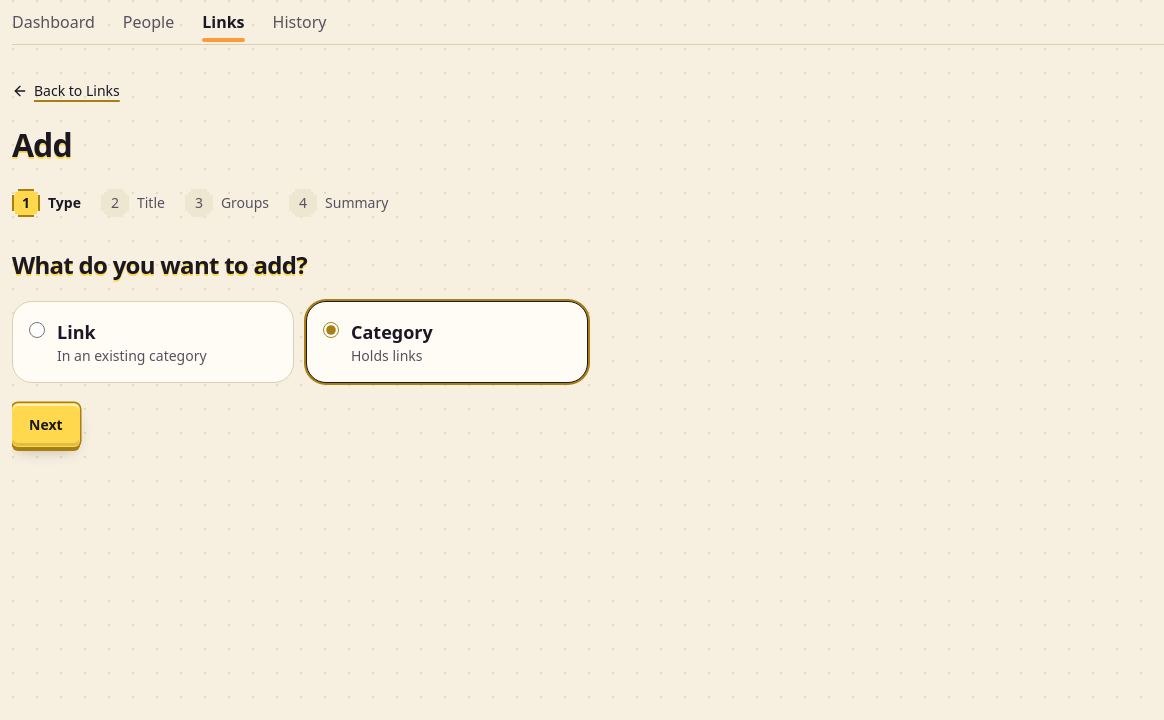
AddLinks › goes back to the step of a field the server refused
Click the button "Next" at (46, 425), box [12,403,80,447]
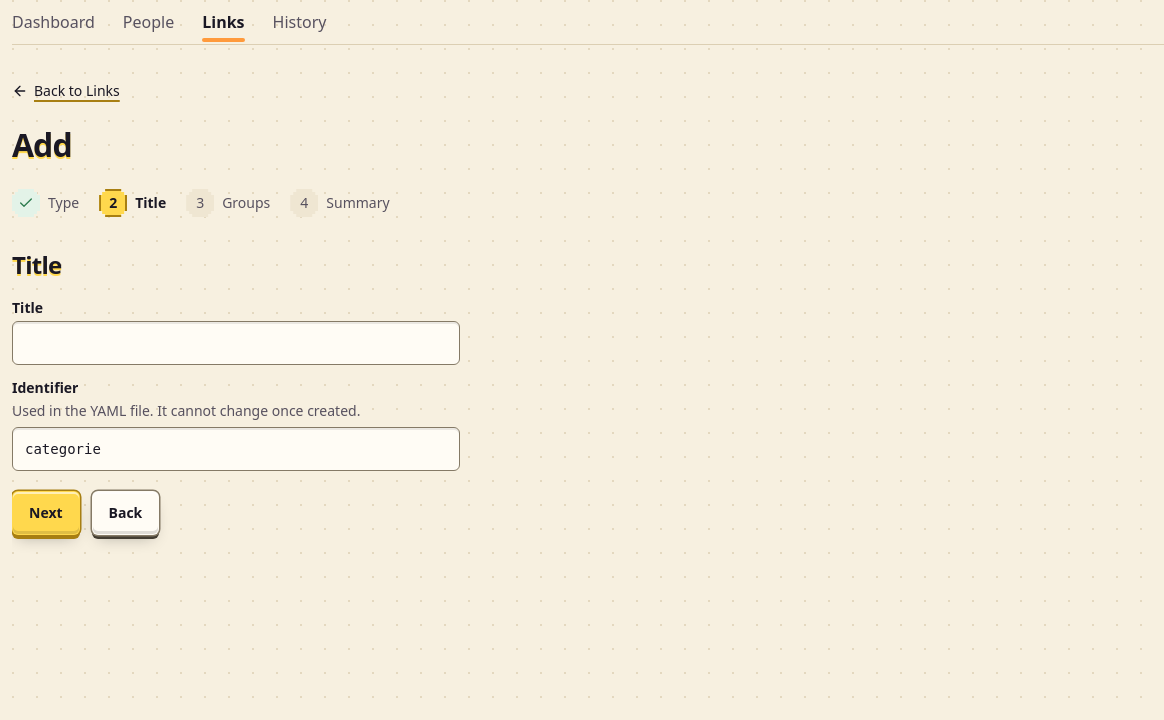
Type "Support" into the field labelled "Title" at (236, 343), box [12,321,460,365]
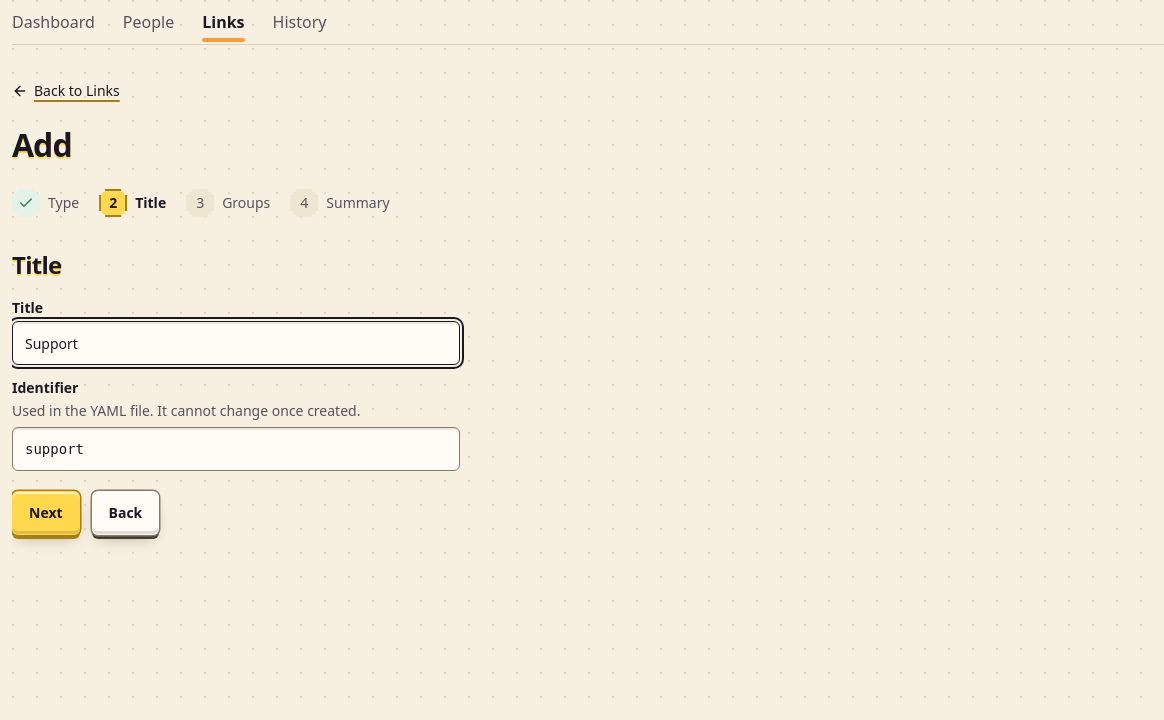
Click the button "Next" at (46, 513), box [12,491,80,535]
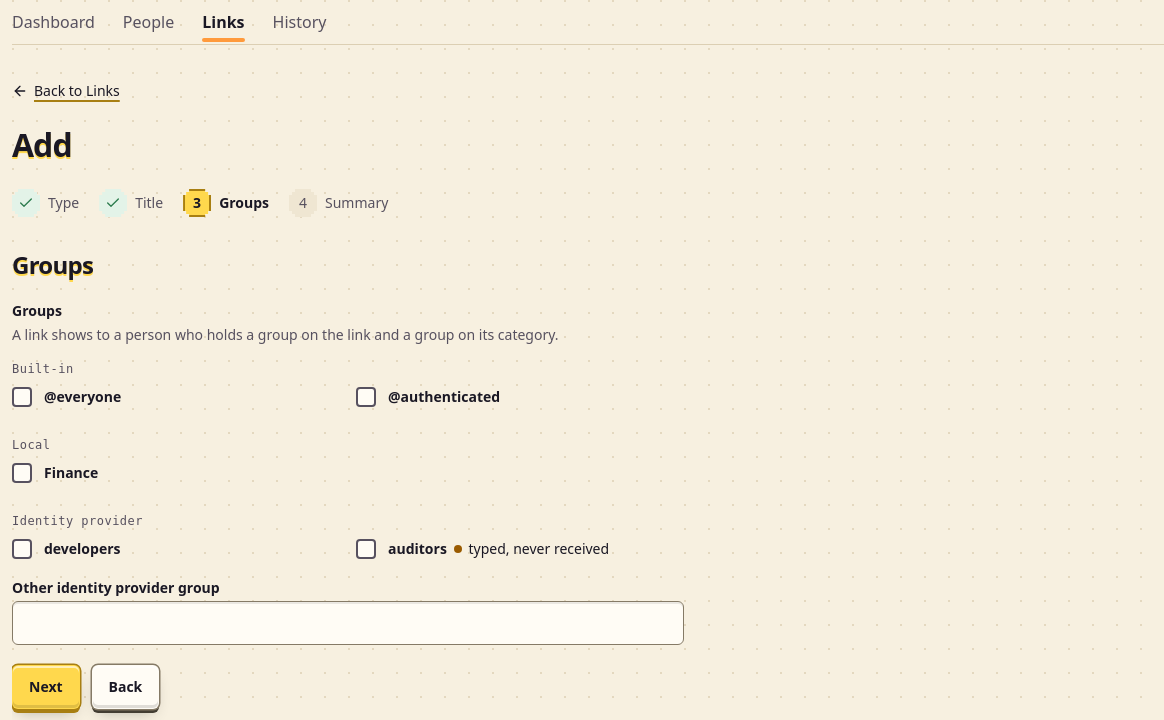
Click the button "Next" at (46, 687), box [12,665,80,709]
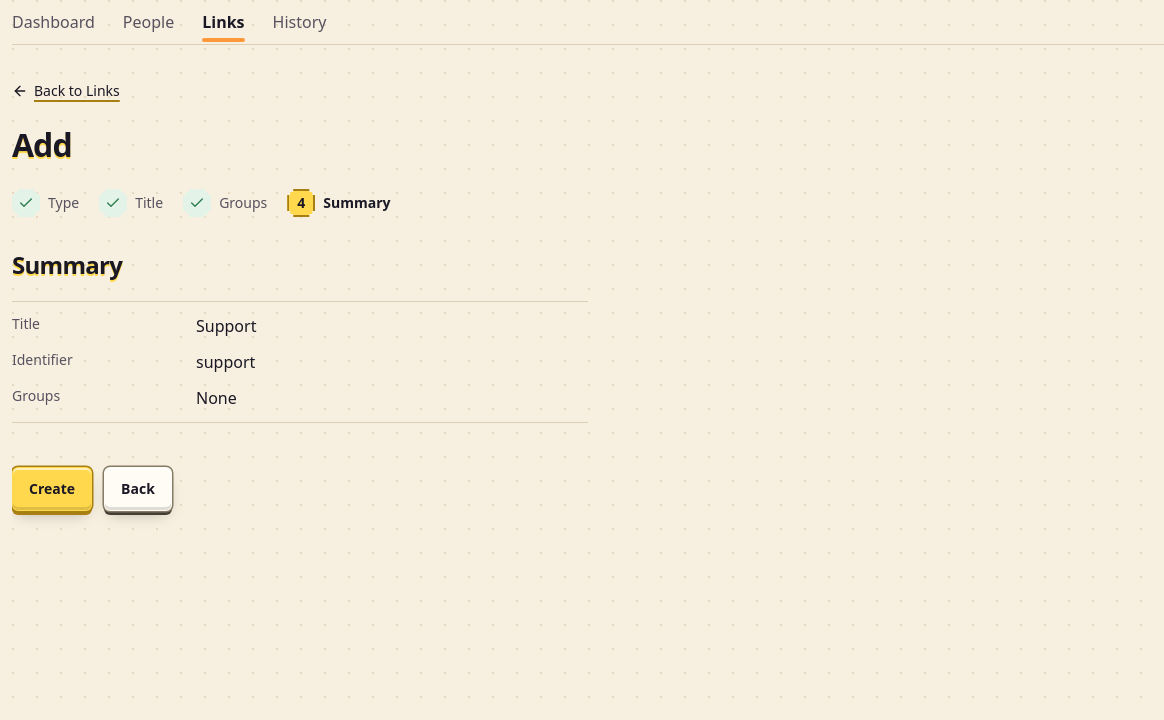
Click the button "Create" at (52, 489), box [12,467,92,511]
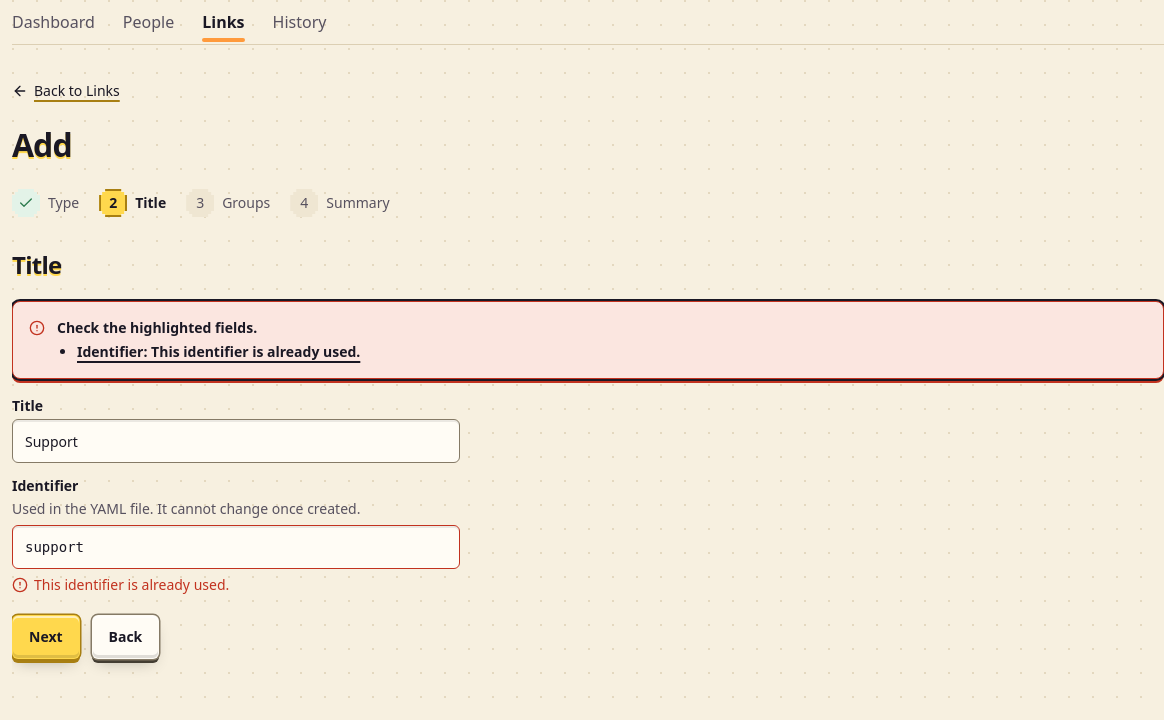
Now the heading "Title" is shown, box [12,248,62,281]
